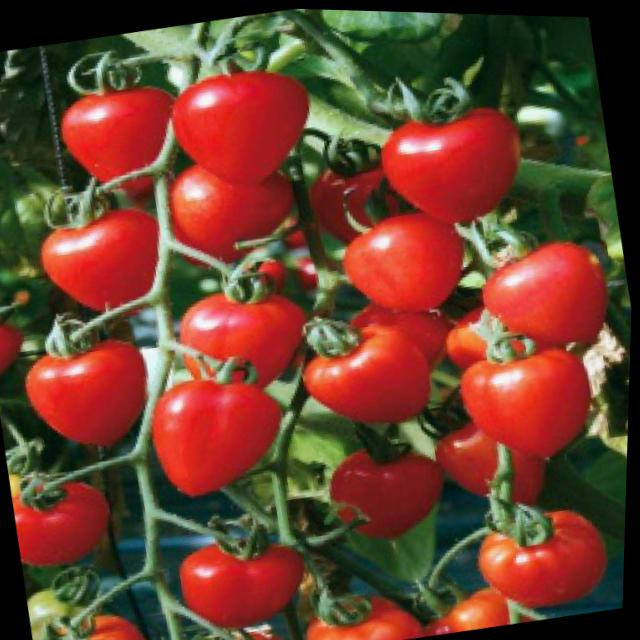tomato: (293, 288, 467, 437), (164, 57, 325, 199), (373, 98, 536, 238), (147, 365, 301, 507), (457, 338, 607, 472), (169, 275, 323, 402), (476, 230, 623, 361), (162, 146, 307, 278), (472, 490, 621, 618), (18, 333, 162, 459), (34, 199, 177, 325), (337, 201, 478, 324), (175, 529, 318, 640), (325, 434, 460, 551), (12, 476, 122, 576), (303, 573, 430, 640), (435, 416, 514, 506), (428, 579, 517, 632), (33, 603, 159, 640)
